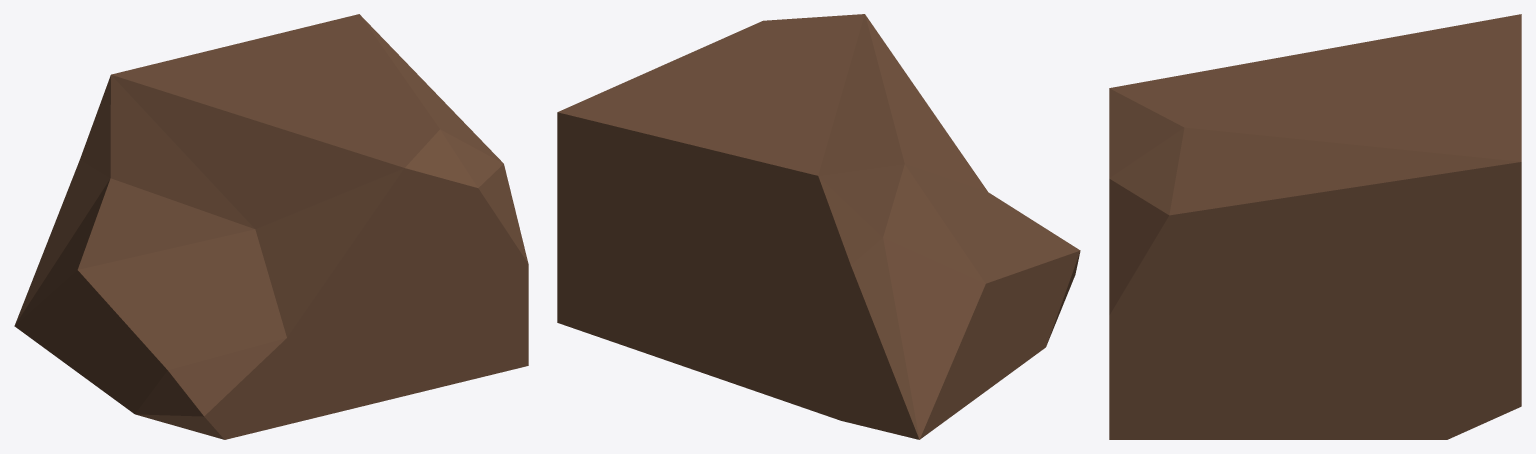
The model's file is SM_Prop_Brick_Half_01.fbx.
3 renders of one model, left to right at view 1: azimuth 30°, elevation 25°; view 2: azimuth 150°, elevation 25°; view 3: azimuth 270°, elevation 25°, orthographic. The views are drawn at different scales.
Parts seen in each view (by area): view 1: SM_Prop_Brick_Half_01; view 2: SM_Prop_Brick_Half_01; view 3: SM_Prop_Brick_Half_01.
Part boxes in pixels (x1,y1,x2,y2): SM_Prop_Brick_Half_01: [14, 14, 528, 439]; SM_Prop_Brick_Half_01: [557, 14, 1080, 439]; SM_Prop_Brick_Half_01: [1109, 14, 1521, 439].
Size of the model in its own units: 30.33 by 19.16 by 25.76.
